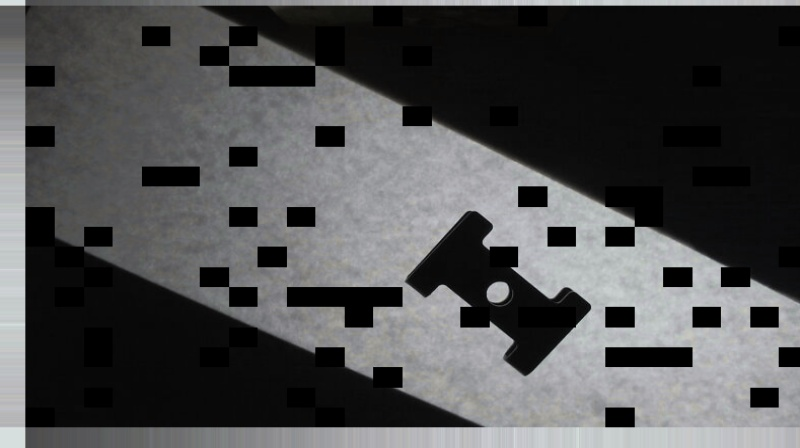O002: (401, 209, 594, 378)
